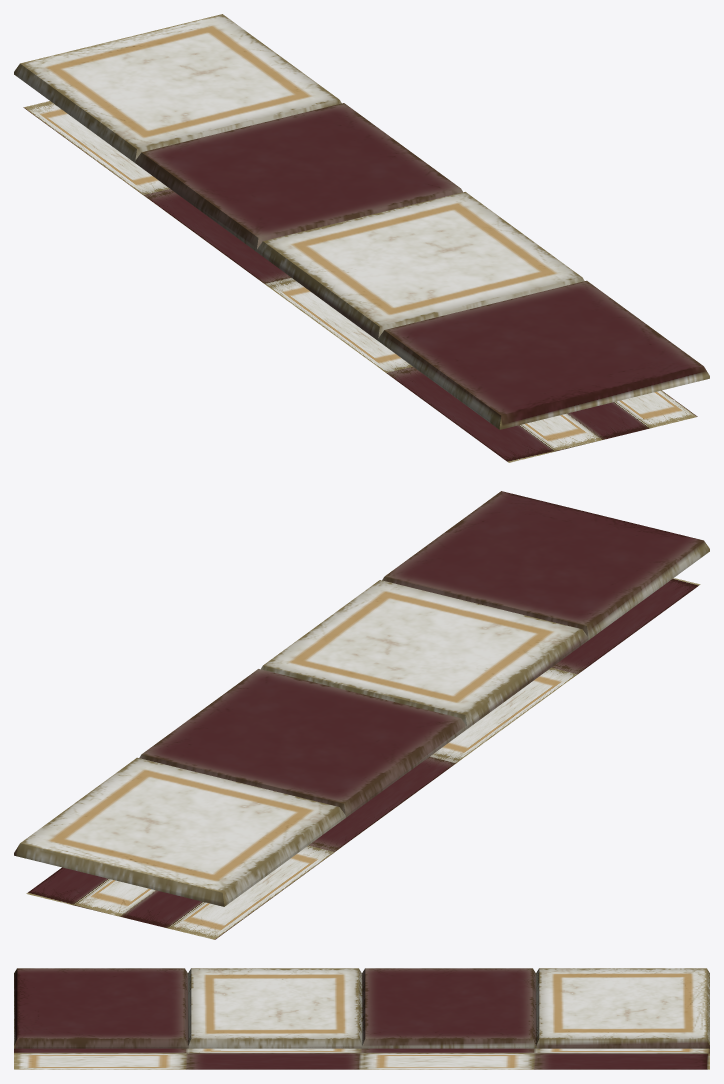
The model's file is AC_FloorSmall.fbx.
3 renders of one model, top to bottom at view 1: azimuth 30°, elevation 25°; view 2: azimuth 150°, elevation 25°; view 3: azimuth 270°, elevation 25°, orthographic. The views are drawn at different scales.
Visible parts, largest first — view 1: AC_Floor_Small; view 2: AC_Floor_Small; view 3: AC_Floor_Small.
Boxes of the visible parts, x1,y1,x2,y2 form: AC_Floor_Small: (14,14,709,462); AC_Floor_Small: (14,491,709,939); AC_Floor_Small: (14,968,709,1069).
Bounding box in the file's own units: 125 × 26.65 × 500.
